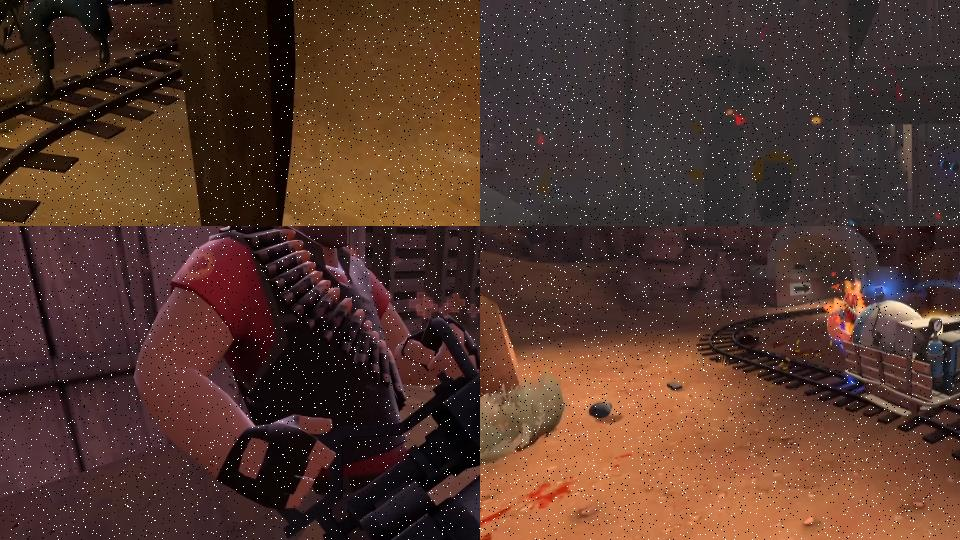Enemy: (129, 226, 480, 540), (0, 0, 116, 106), (847, 196, 916, 226), (938, 197, 960, 226)
